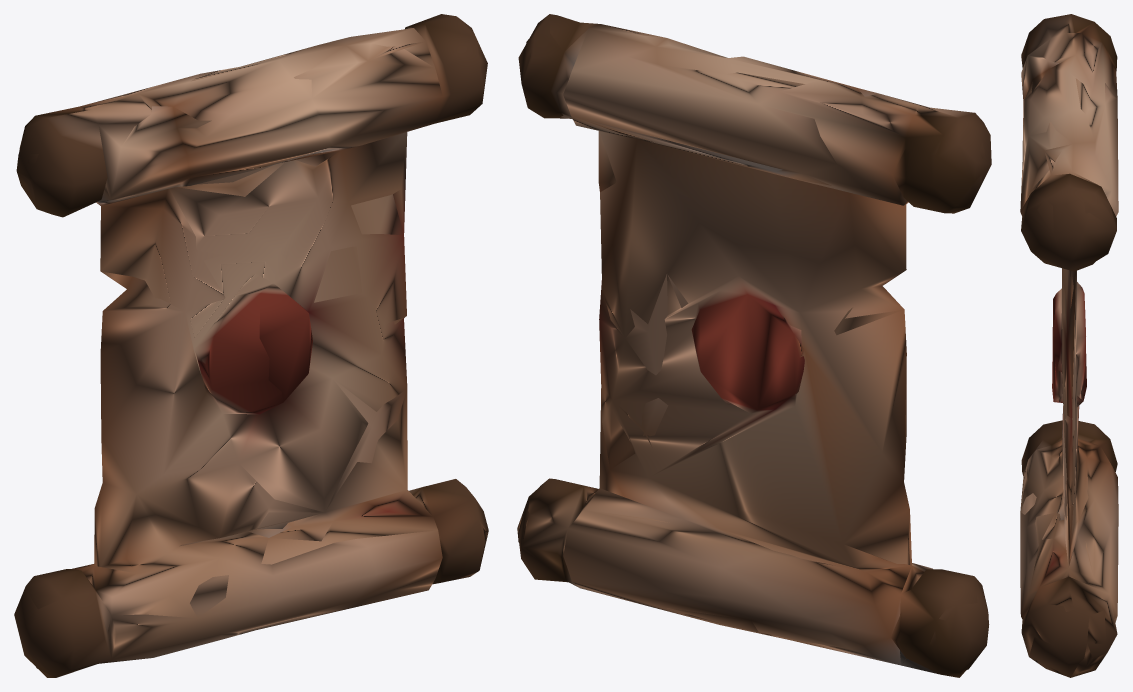
Rendered from gen3d-ancient-scroll-lod1.glb.
3 views of the same model, side by side, from view 1: azimuth 30°, elevation 25°; view 2: azimuth 150°, elevation 25°; view 3: azimuth 270°, elevation 25° (orthographic). The views are drawn at different scales.
Parts seen in each view (by area): view 1: part_0; view 2: part_0; view 3: part_0.
Boxes of the visible parts, box(x1,y1,x2,y2) form: part_0: box(14, 14, 488, 677); part_0: box(517, 14, 991, 677); part_0: box(1020, 14, 1118, 677).
Size of the model in its own units: 0.8449 by 0.9985 by 0.1807.
